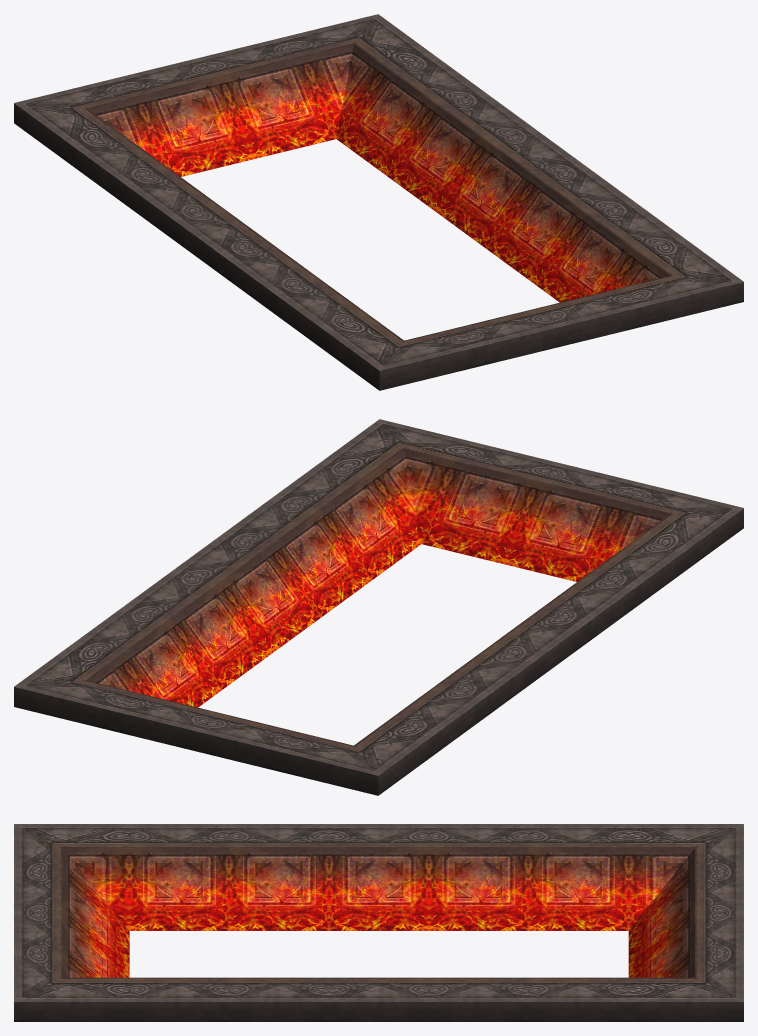
File: blsd_chizi_04.FBX
3 renders of one model, top to bottom at view 1: azimuth 30°, elevation 25°; view 2: azimuth 150°, elevation 25°; view 3: azimuth 270°, elevation 25°, orthographic.
Parts seen in each view (by area): view 1: blsd_chizi_04; view 2: blsd_chizi_04; view 3: blsd_chizi_04.
Boxes of the visible parts, x1=… form: blsd_chizi_04: x1=14, y1=14, x2=743, y2=390; blsd_chizi_04: x1=14, y1=419, x2=743, y2=795; blsd_chizi_04: x1=14, y1=824, x2=743, y2=1021.
Bounding box in the file's own units: 478 × 831 × 73.12.
